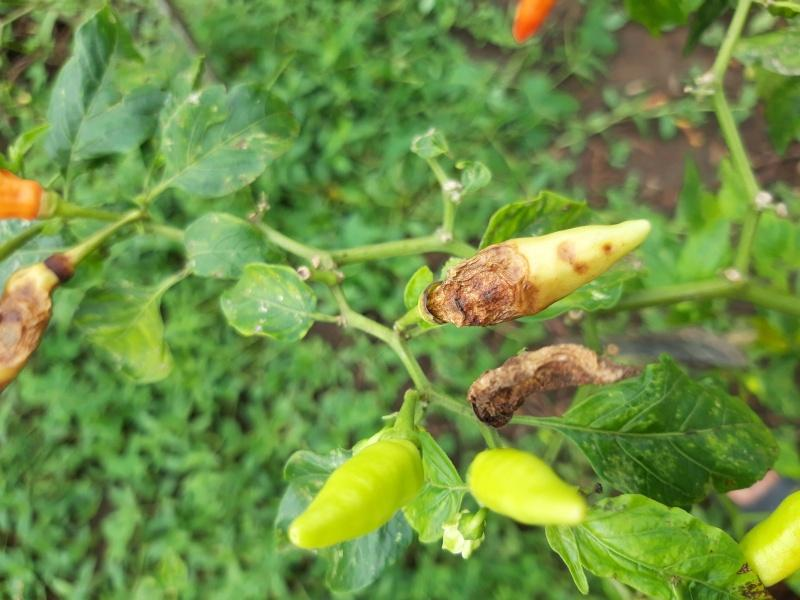antraknosa: (436, 220, 652, 328), (472, 344, 640, 426), (0, 265, 58, 396)
cabai_normal: (290, 434, 427, 550), (472, 448, 585, 526), (745, 484, 800, 583)
